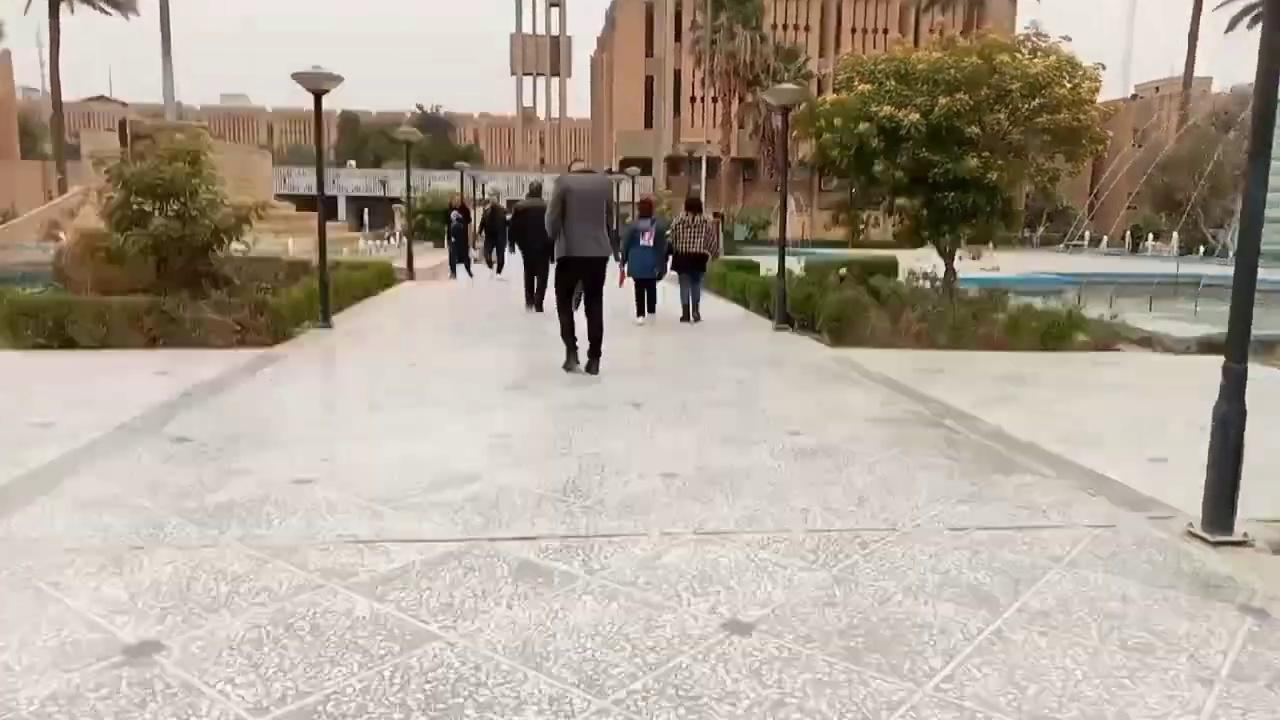fountain: (887, 14, 1280, 351), (703, 252, 1124, 350)
person: (543, 157, 621, 375), (666, 196, 720, 322), (619, 193, 669, 325), (507, 179, 554, 312), (477, 189, 508, 275), (444, 192, 474, 279)
tree: (790, 21, 1119, 303), (1189, 0, 1279, 543), (91, 125, 272, 345), (680, 0, 815, 252), (333, 102, 485, 279), (21, 0, 140, 195), (1129, 103, 1251, 254), (1174, 0, 1203, 133)
